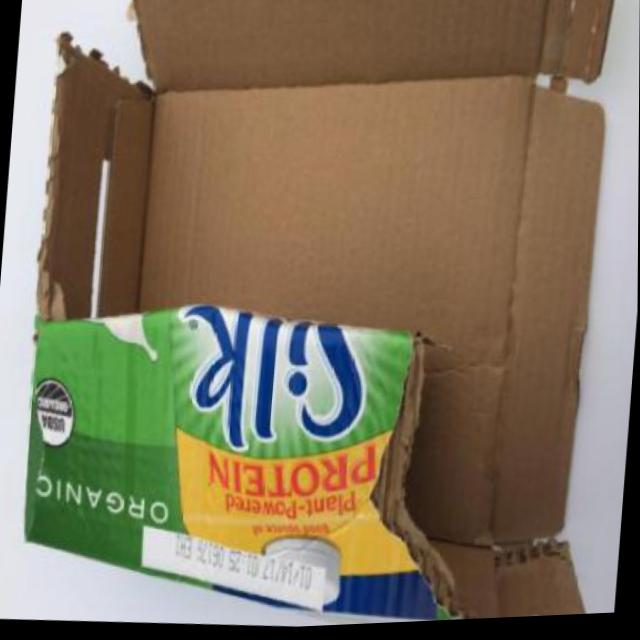box: (5, 0, 640, 640)
